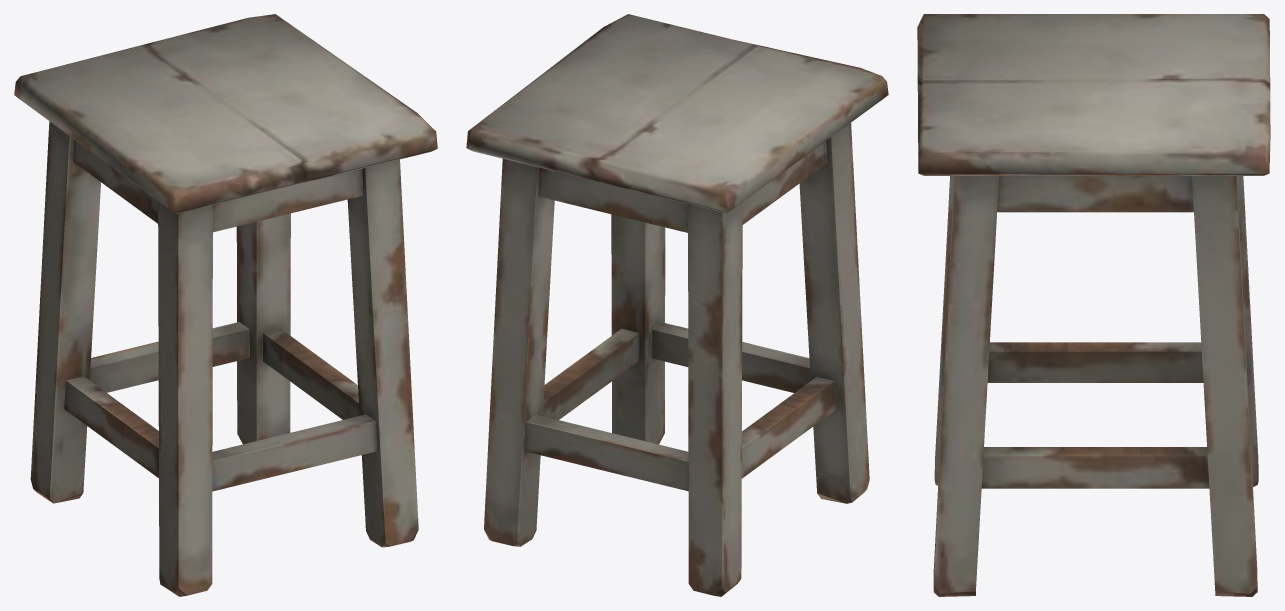
The model's file is painted_wooden_stool_lod1.glb.
3 views of the same model, side by side, from view 1: azimuth 30°, elevation 25°; view 2: azimuth 150°, elevation 25°; view 3: azimuth 270°, elevation 25° (orthographic). The views are drawn at different scales.
Parts seen in each view (by area): view 1: painted_wooden_stool; view 2: painted_wooden_stool; view 3: painted_wooden_stool.
Boxes of the visible parts, x1,y1,x2,y2 form: painted_wooden_stool: (14,14,437,596); painted_wooden_stool: (466,14,888,596); painted_wooden_stool: (917,14,1270,596).
Size of the model in its own units: 0.383 by 0.5769 by 0.4046.
Materials: 1 (1 with a texture image).
